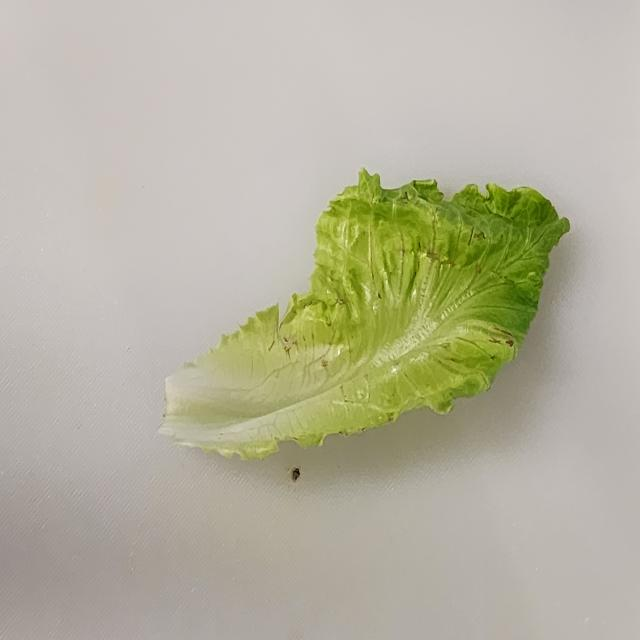lettuce: (157, 166, 571, 462)
